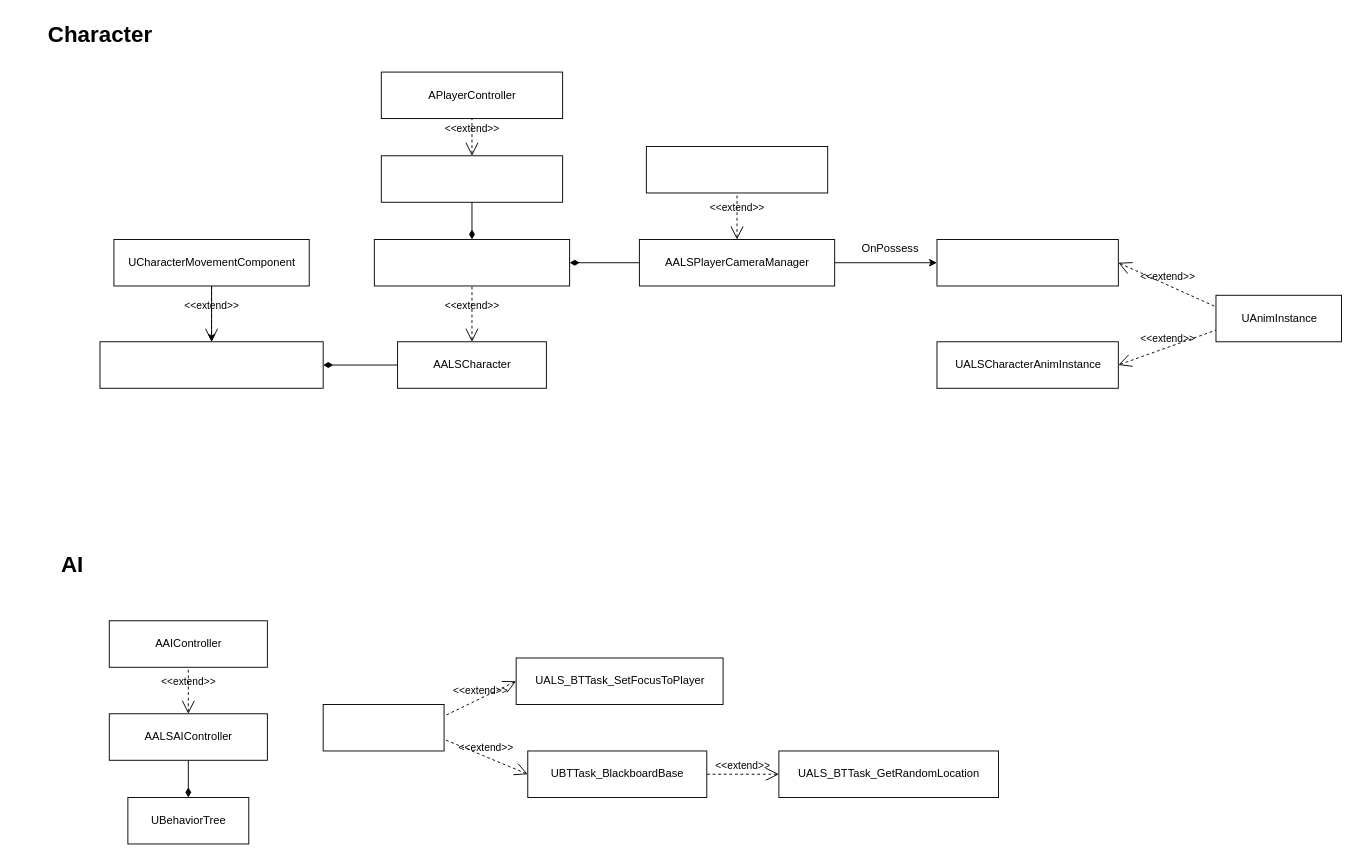
This 1358x860 diagram has some shape labels left out. Each missing label, with the centre of its shape:
AALSBaseCharacter: point (471, 262)
AALSPlayerController: point (471, 178)
APlayerCameraManager: point (736, 169)
UALSCharacterMovementComponent: point (211, 364)
UALSPlayerCameraBehavior: point (1027, 262)
UBTTaskNode: point (383, 727)
